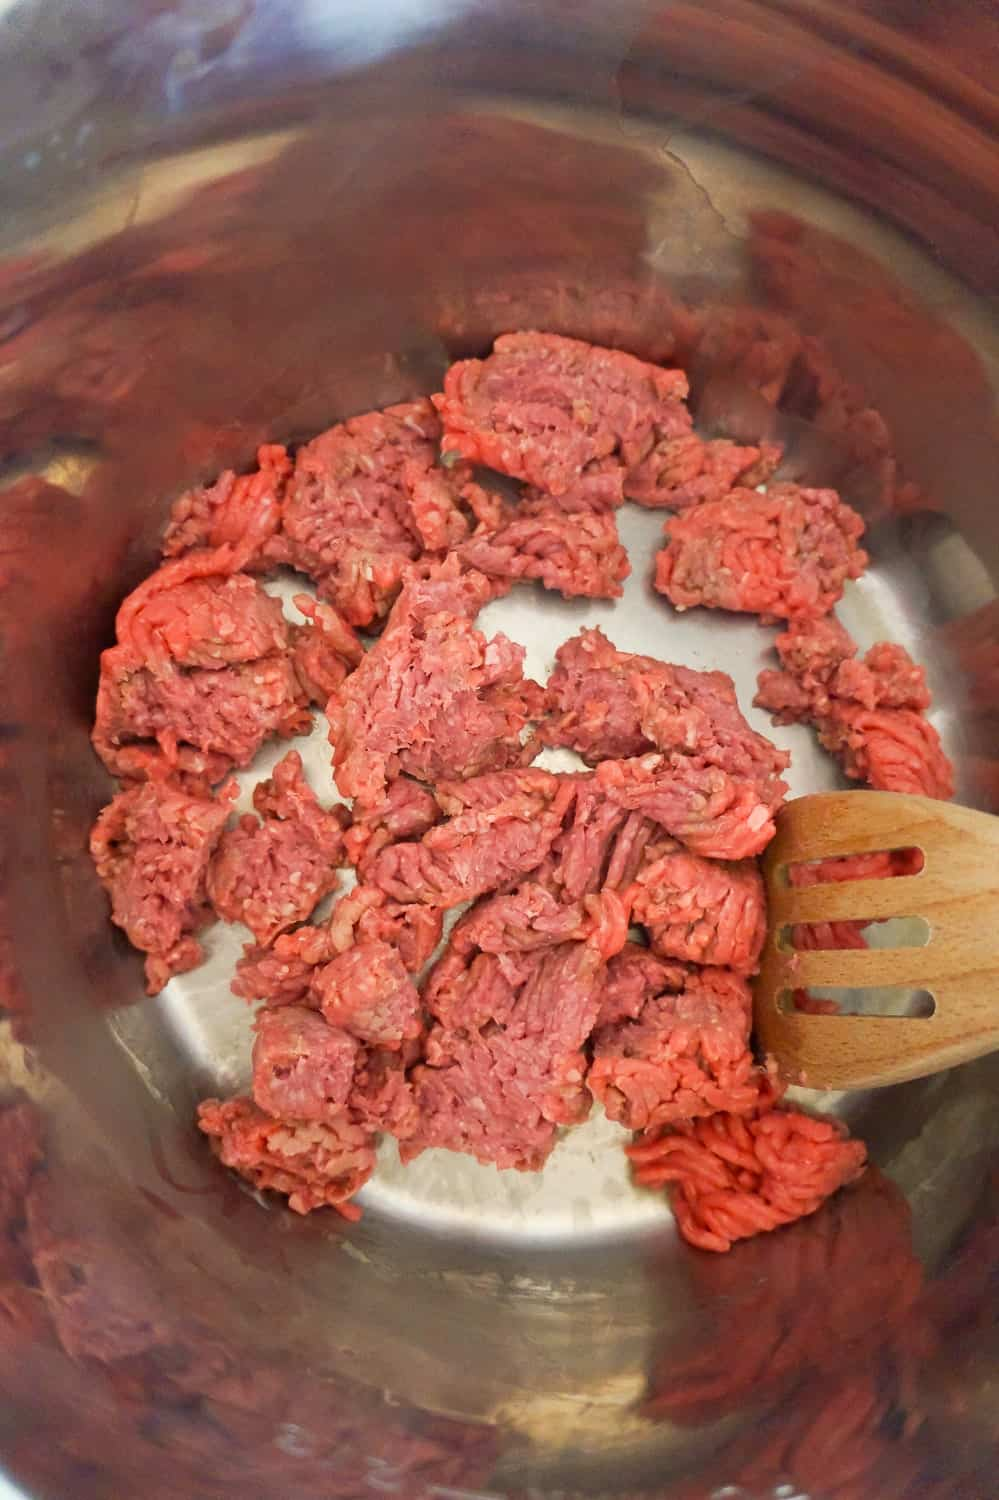ground_beef: (130, 408, 776, 1226)
